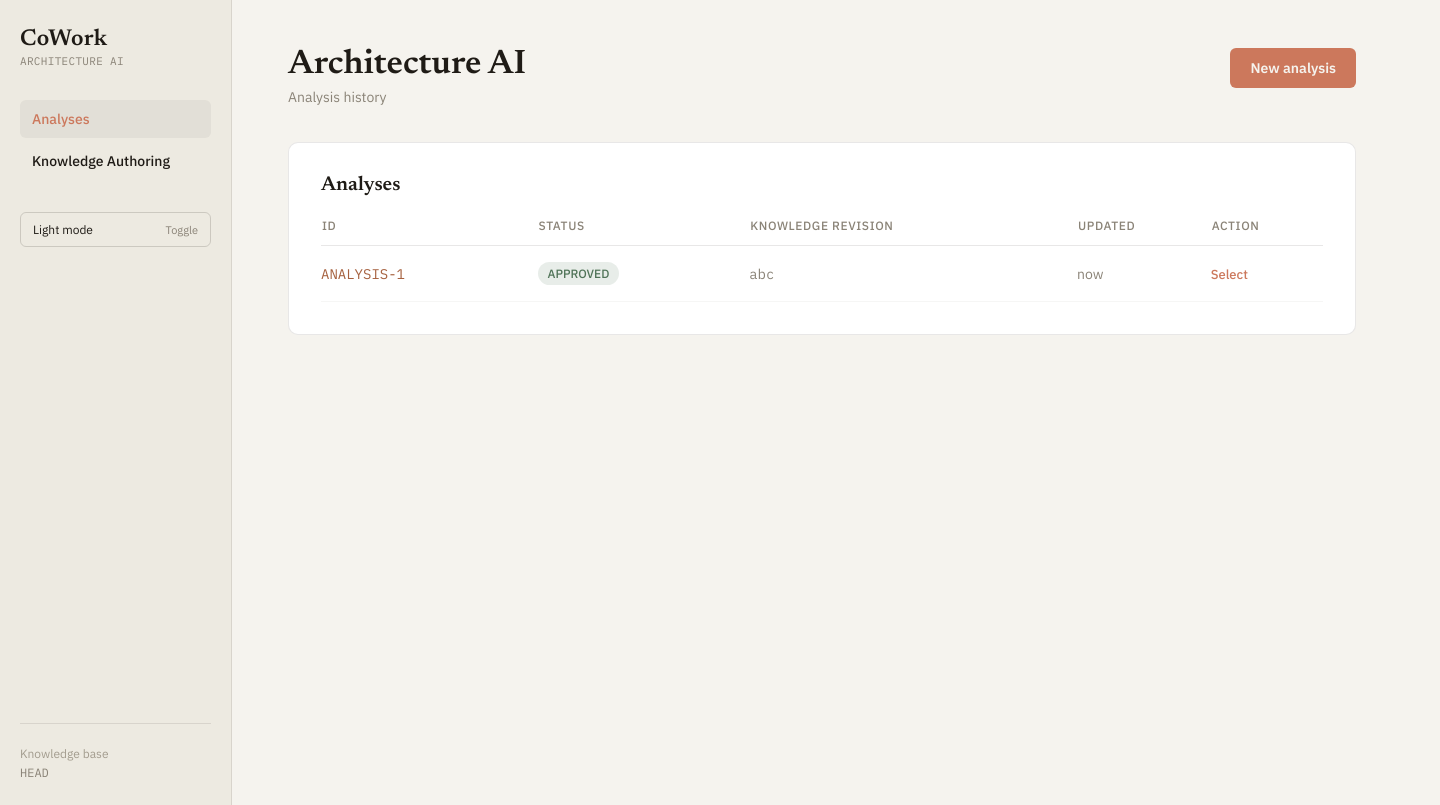
Test case: Web DOM review flow › keeps the detail visible when publication returns INVALID_PACKAGE_STATUS
This screenshot has width=1440, height=805.
Click the button "Select".
click(1229, 274)  # box x1=1211 y1=266 x2=1248 y2=282
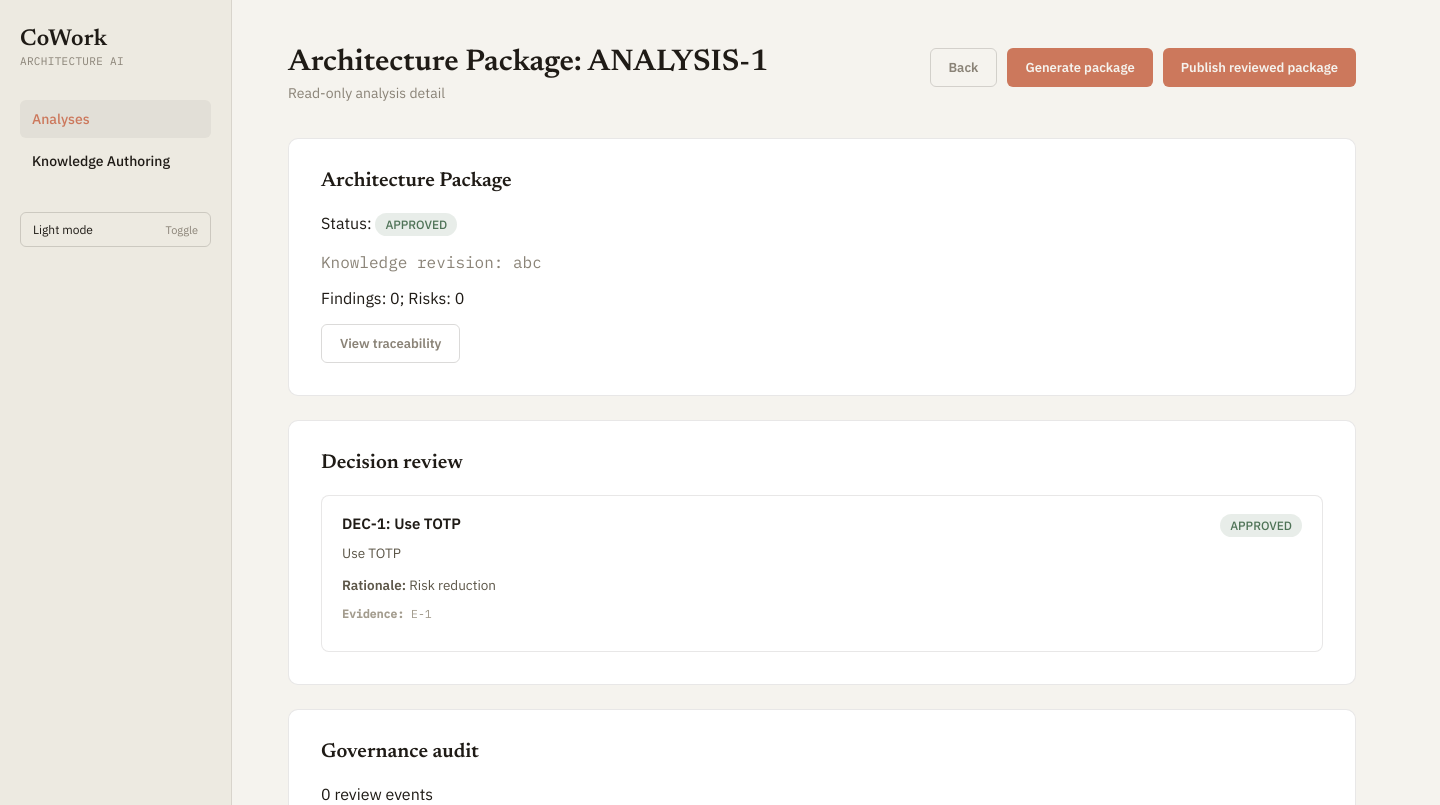
expect the heading "Architecture Package: ANALYSIS-1" is shown: met, box x1=288 y1=48 x2=768 y2=78
Click the button "Publish reviewed package".
click(1259, 68)  # box x1=1163 y1=48 x2=1356 y2=87
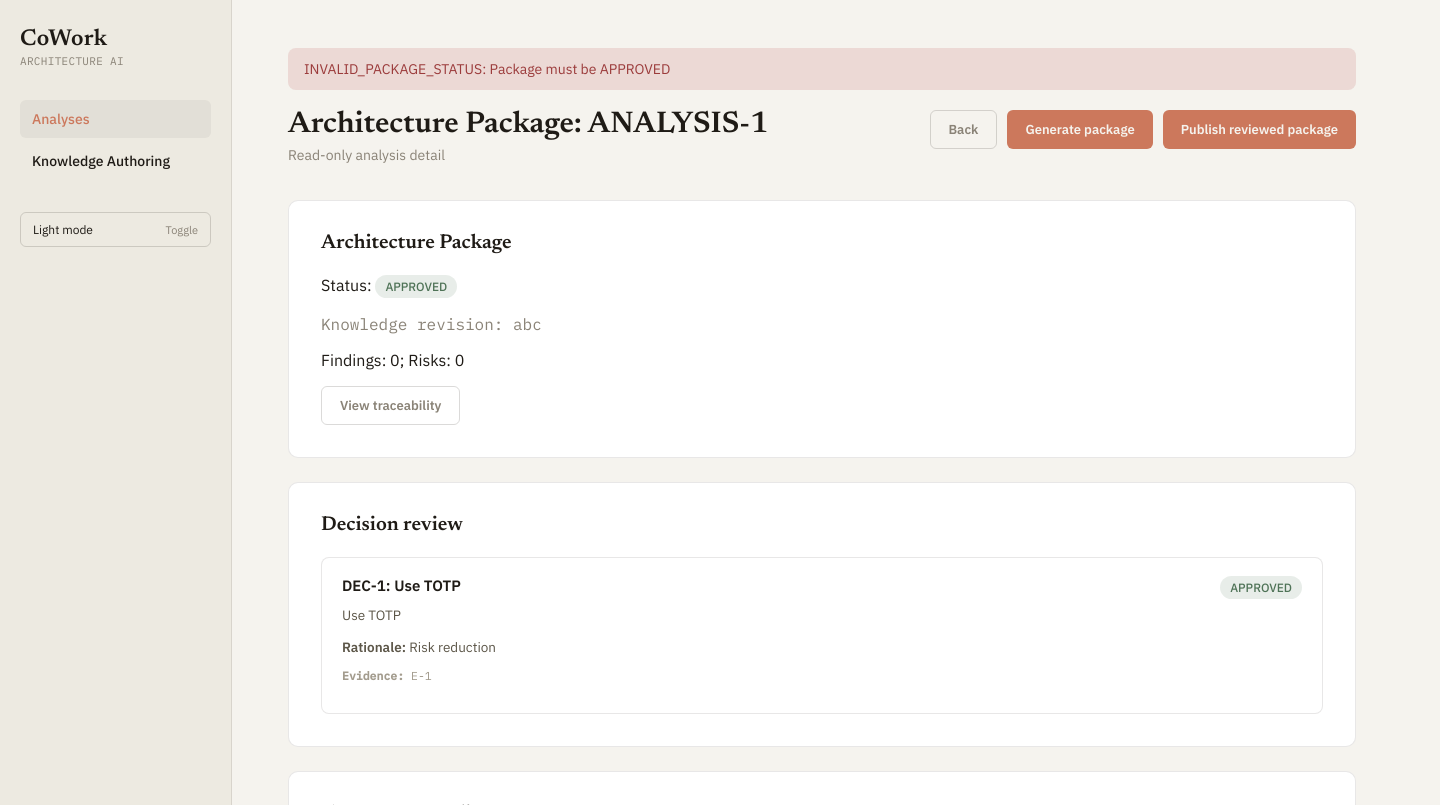
expect the heading "Architecture Package: ANALYSIS-1" is shown: met, box x1=288 y1=110 x2=768 y2=140
expect the message reads "INVALID_PACKAGE_STATUS: Package must be APPROVED": met, box x1=304 y1=60 x2=670 y2=78
